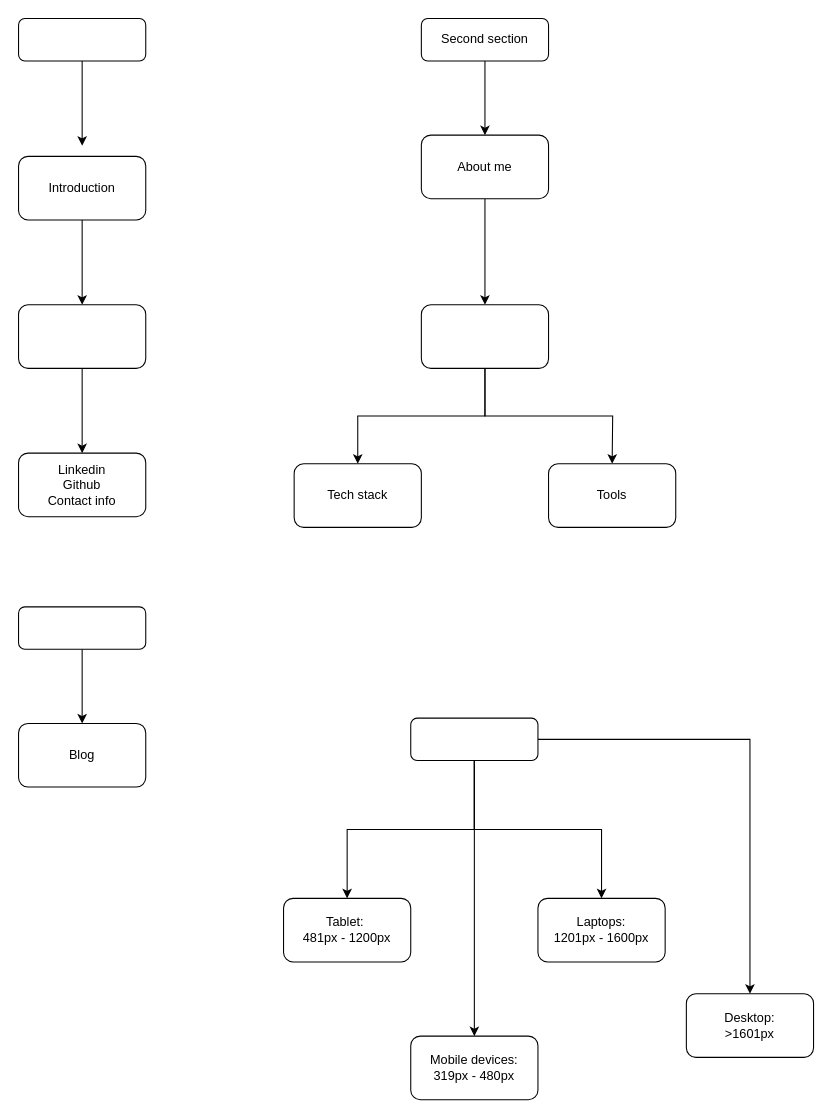
The diagram is 832 pixels wide and 1118 high, and some of its shapes have lost their labels. The centre of each missing label's shape, as x and y in pixels:
First section: point (81, 39)
Professional summary: point (81, 336)
Responsive: point (474, 739)
Skills: point (484, 336)
Third section: point (81, 627)
